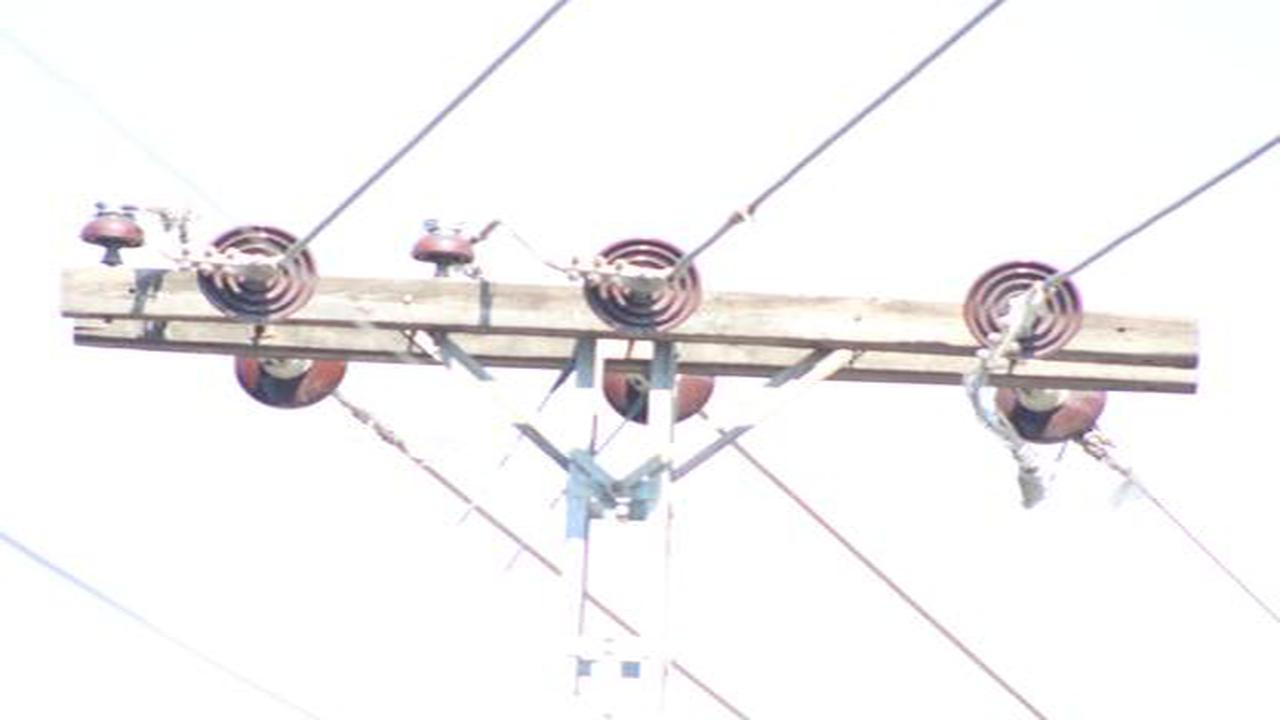insulator_disc: (581, 237, 708, 336), (960, 259, 1085, 356), (195, 222, 321, 315), (601, 359, 716, 427), (229, 347, 353, 409), (990, 382, 1109, 446)
insulator_pin: (78, 197, 148, 255), (408, 215, 483, 268)
